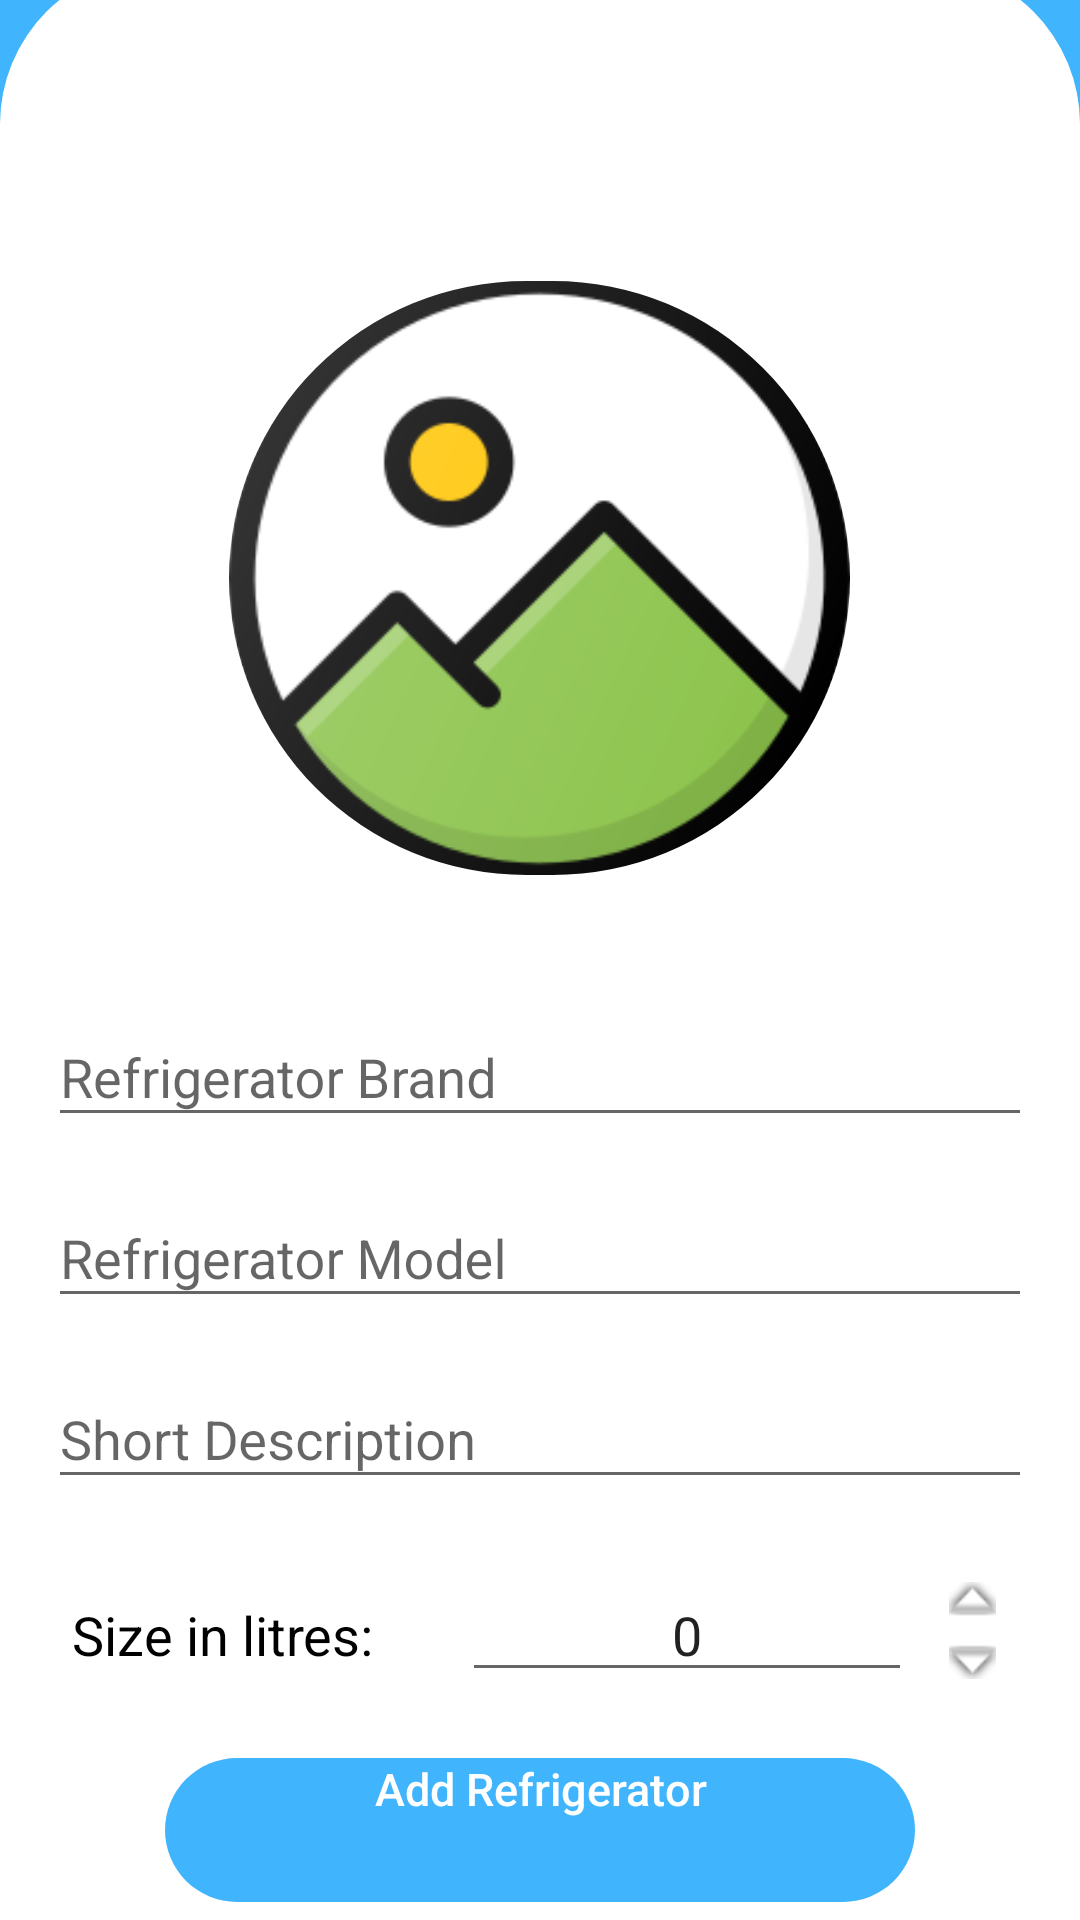

Point at icon controls on the screen. Image size 1080×1920, points as (x=x, y=y).
arrow down float: (x=972, y=1662)
arrow up float: (x=972, y=1599)
